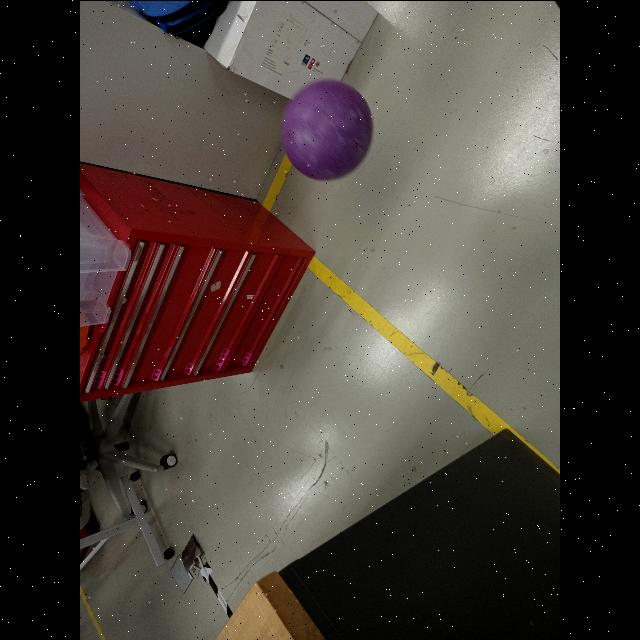P: (276, 77, 376, 181)
